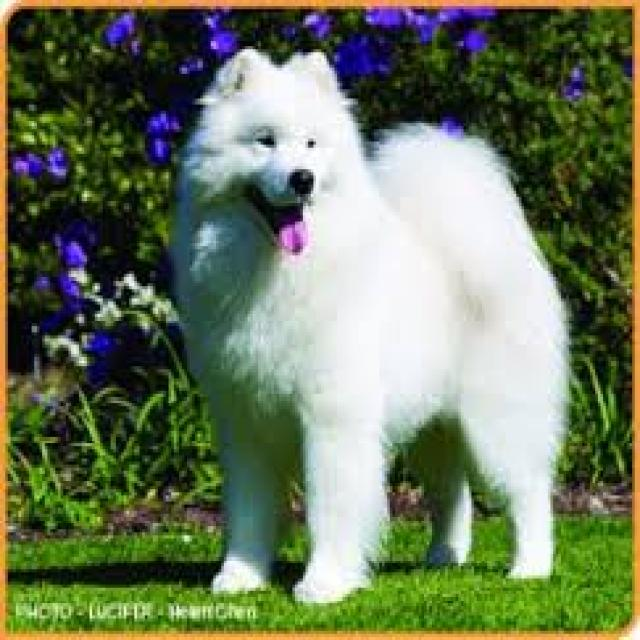dogs: (172, 47, 574, 603)
